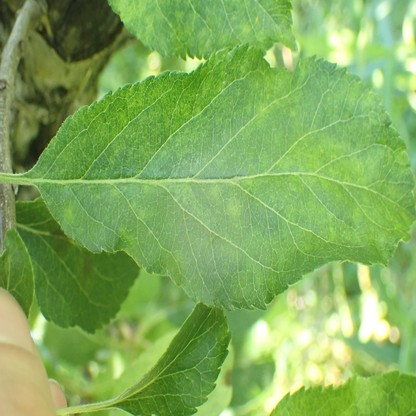scab: (40, 48, 416, 299), (242, 0, 293, 41), (113, 0, 146, 23), (173, 11, 194, 44), (47, 228, 69, 257), (82, 252, 93, 290)
